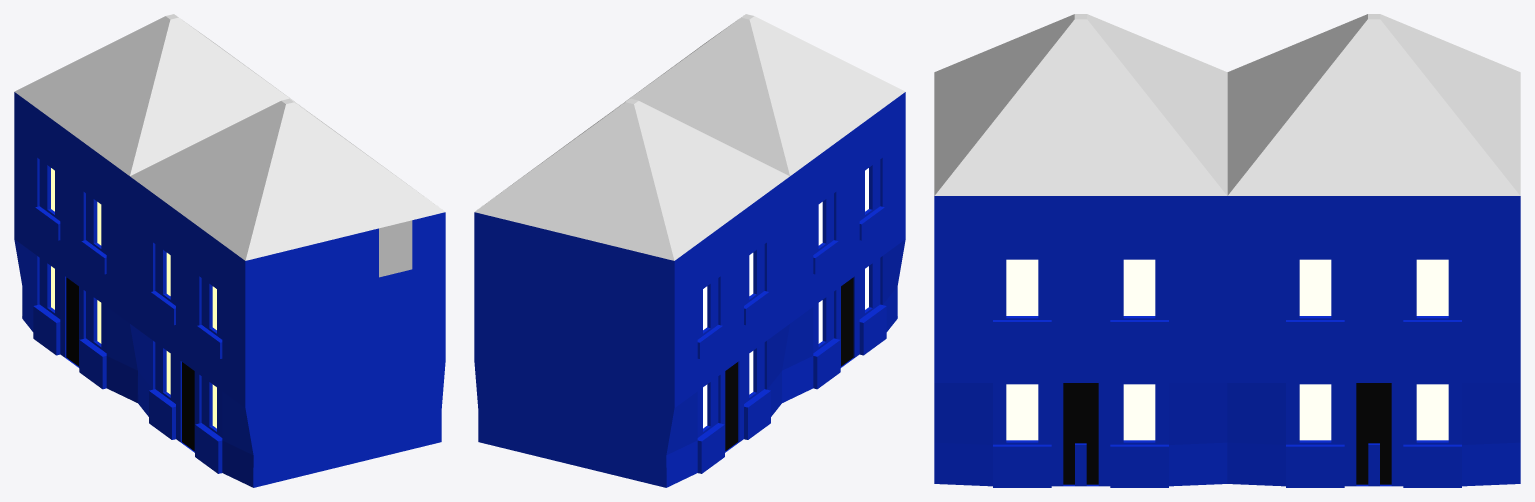
The model's file is two_storey_house_1(shorter).fbx.
3 renders of one model, left to right at view 1: azimuth 30°, elevation 25°; view 2: azimuth 150°, elevation 25°; view 3: azimuth 270°, elevation 25°, orthographic. The views are drawn at different scales.
Visible parts, largest first — view 1: Cube; view 2: Cube; view 3: Cube.
Boxes of the visible parts, bbox=[...] form: Cube: bbox=[14, 14, 445, 487]; Cube: bbox=[474, 14, 905, 487]; Cube: bbox=[934, 14, 1520, 487].
Size of the model in its own units: 19.95 by 29.63 by 38.6.
